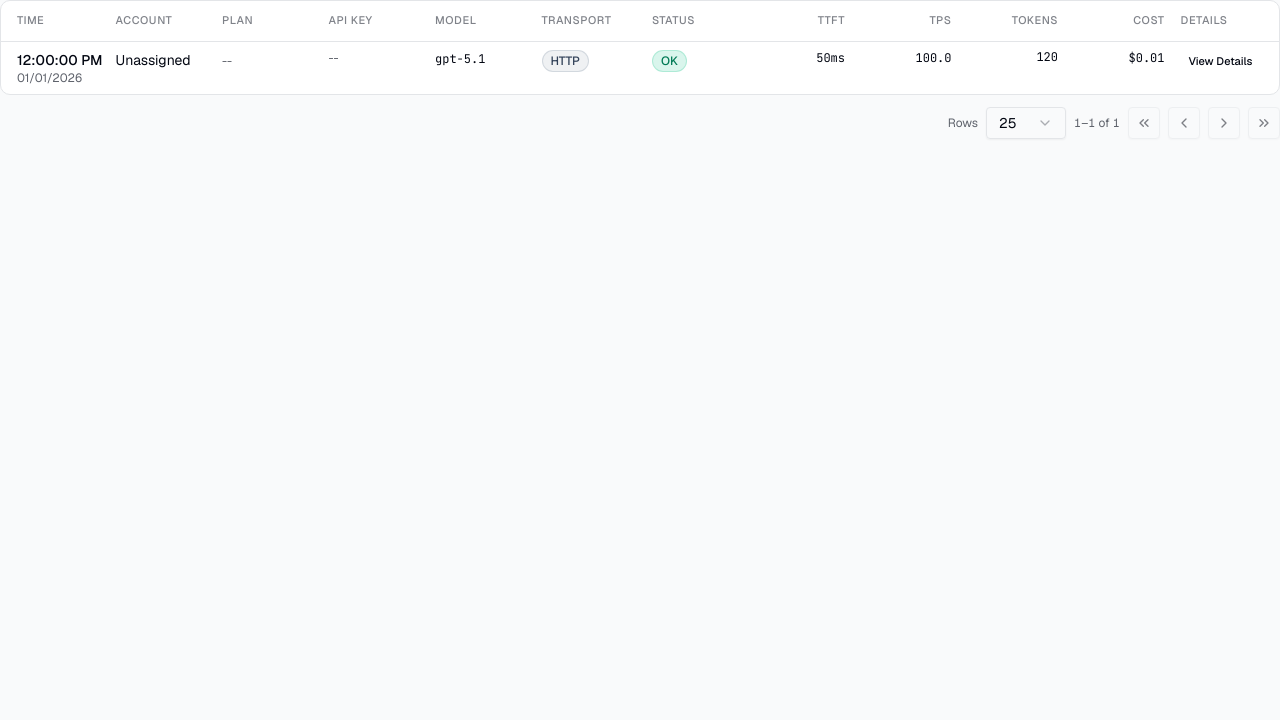
it: RecentRequestsTable › hides identifying metadata and archive controls from guests
The width and height of the screenshot is (1280, 720).
Click the button "View Details": click(1220, 62) [1180, 50, 1260, 74]
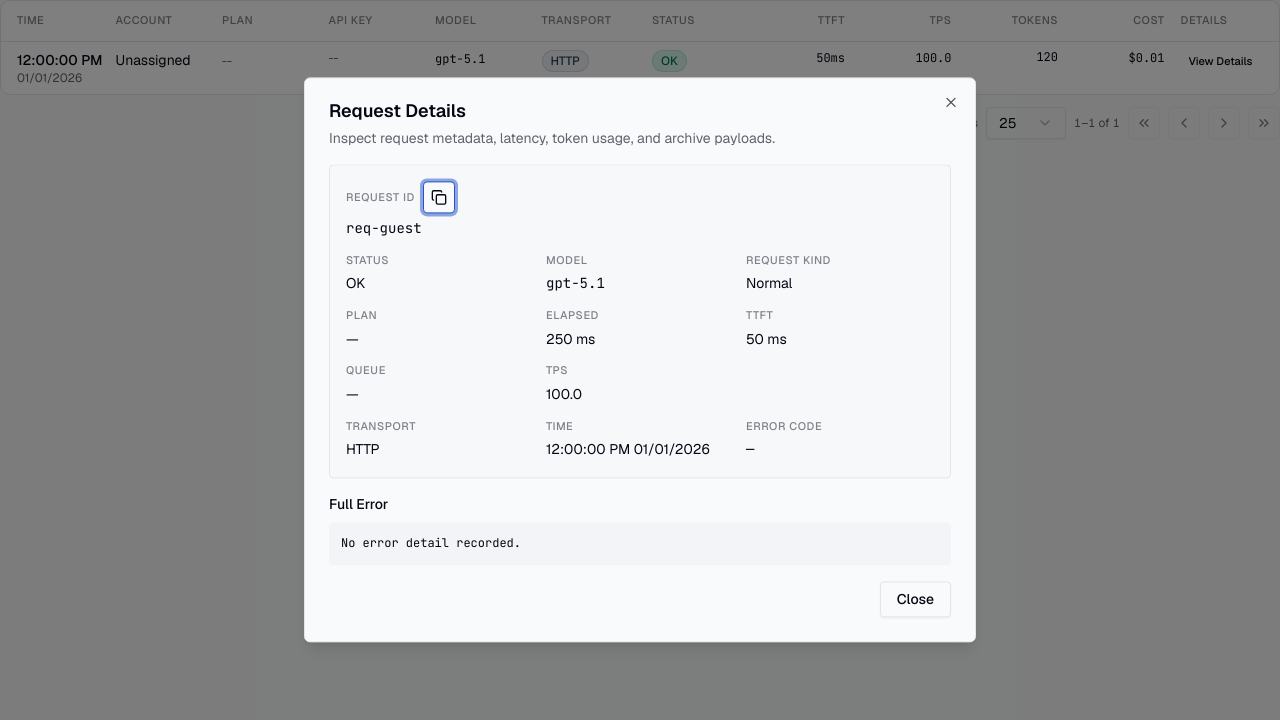
Check: the text "req-guest" is shown, box [346, 217, 422, 240]
Check: the text "gpt-5.1" is shown, box [546, 273, 605, 295]
